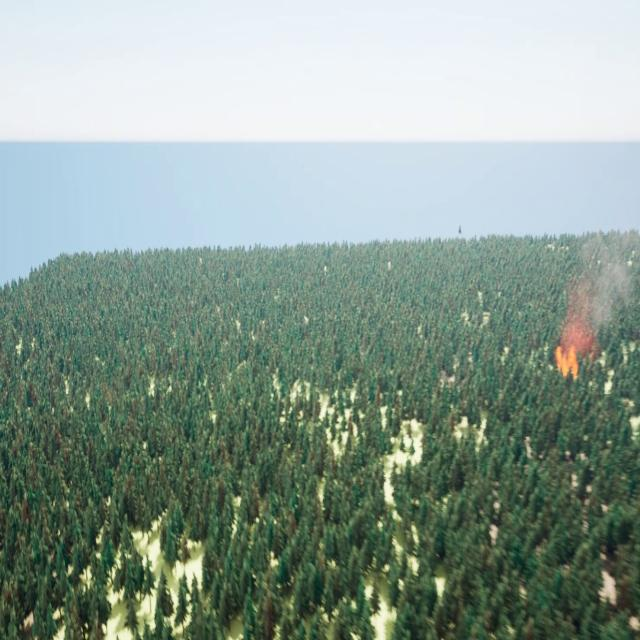fire: (555, 338, 579, 382)
smoke: (563, 233, 632, 345)
